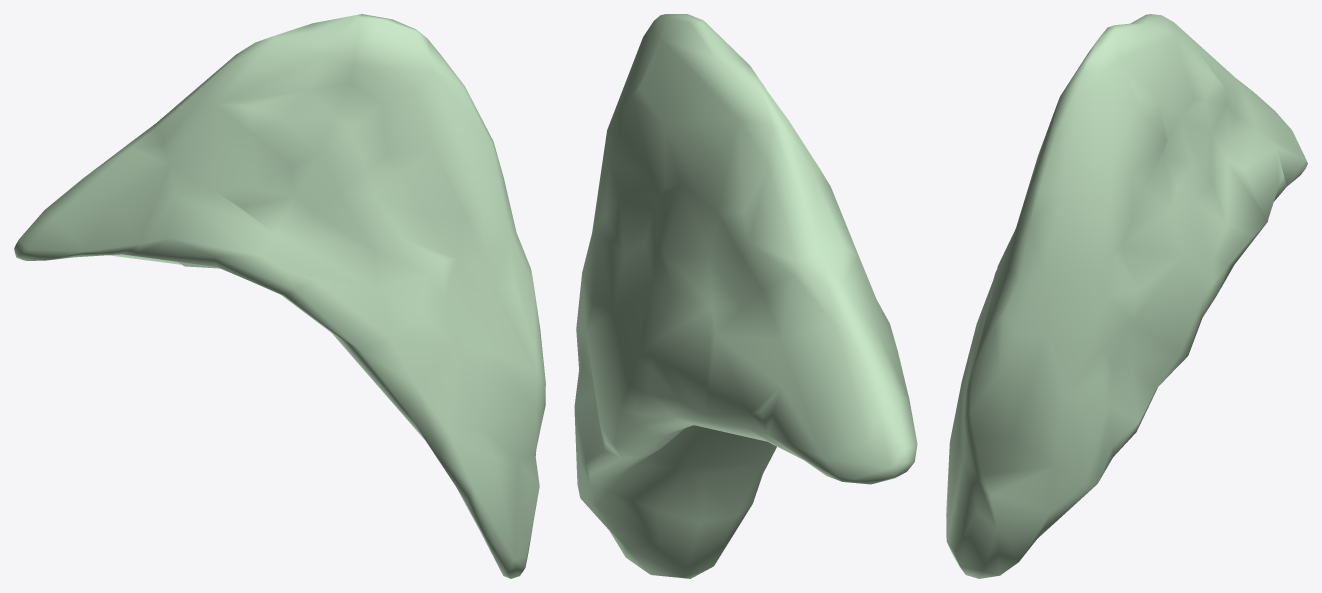
File: endocrine-abdomen.lo.glb
The picture shows the model from 3 angles, left to right: view 1: azimuth 30°, elevation 25°; view 2: azimuth 150°, elevation 25°; view 3: azimuth 270°, elevation 25°; orthographic projection. The views are drawn at different scales.
Parts seen in each view (by area): view 1: FJ3130; view 2: FJ3130; view 3: FJ3130.
Part boxes in pixels (box(x1,y1,x2,y2)): FJ3130: box(14, 14, 545, 578); FJ3130: box(574, 14, 917, 578); FJ3130: box(946, 14, 1307, 578).
Size of the model in its own units: 0.0319 by 0.0421 by 0.0271.
